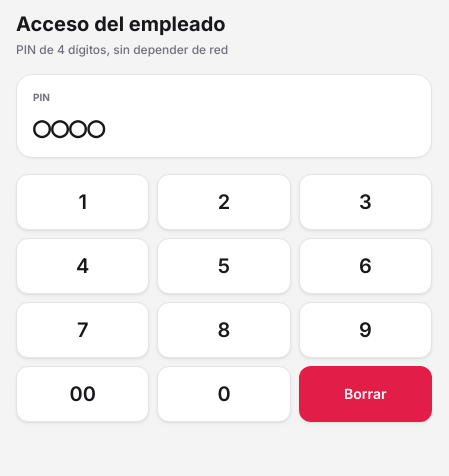
Test: EmployeeAccessScreen › reports a wrong PIN in danger ink and clears the entry
Expected: the button "1" is enabled, [16,174,149,230]
Step 1. Click the button "0" → (224, 394), box [157,366,291,422]
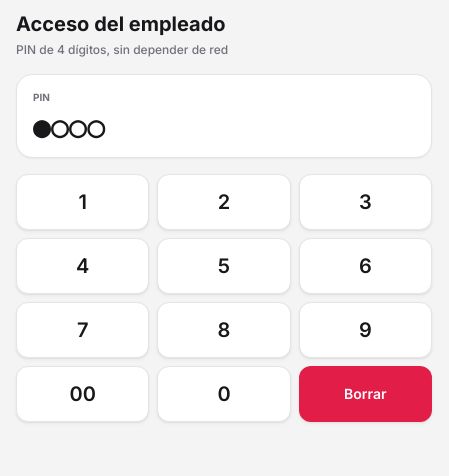
Step 2. Click the button "0" → (224, 394), box [157,366,291,422]
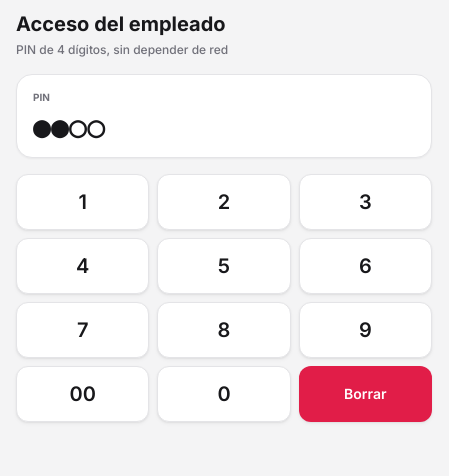
Step 3. Click the button "0" → (224, 394), box [157,366,291,422]
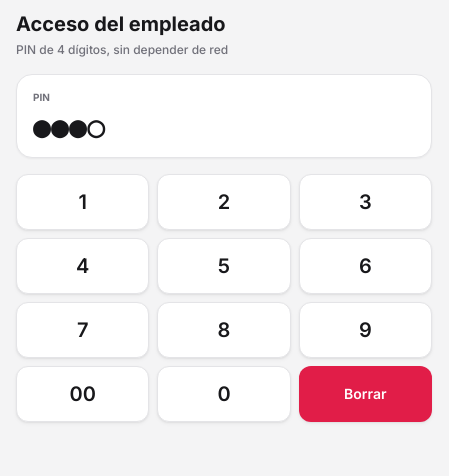
Step 4. Click the button "1" → (83, 202), box [16,174,149,230]
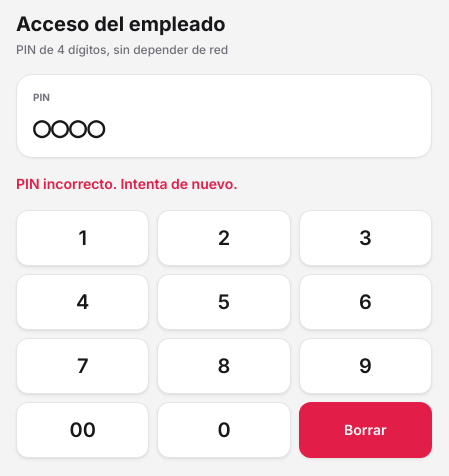
Expected: the button "1" is enabled, [16,210,149,266]
Expected: the text with test id "pin-display" reads "○○○○", [33,106,105,146]
